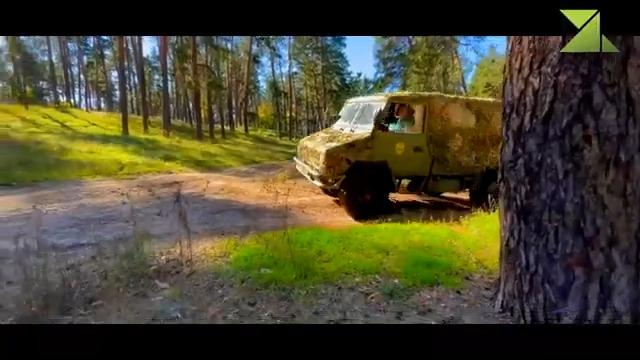MIL_HMMWV: (293, 91, 503, 222)
